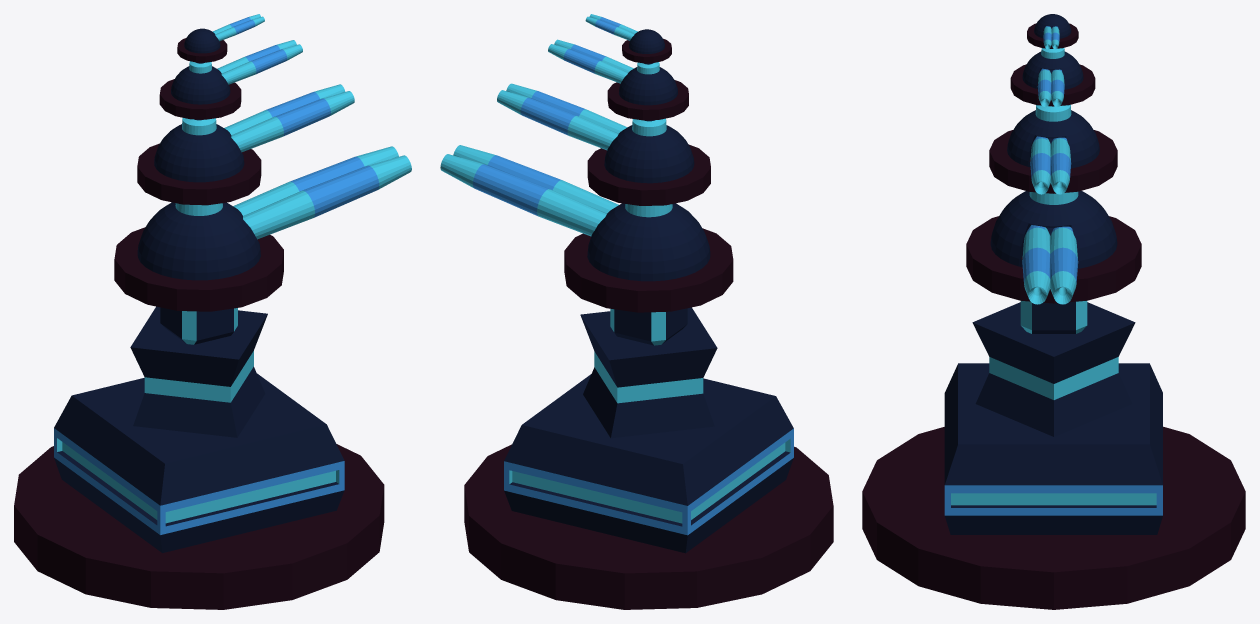
File: HydrogenTurret4.fbx
3 renders of one model, left to right at view 1: azimuth 30°, elevation 25°; view 2: azimuth 150°, elevation 25°; view 3: azimuth 270°, elevation 25°, orthographic. The views are drawn at different scales.
Visible parts, largest first — view 1: Cube, Cylinder, Cube.001, Sphere, Cylinder.001, Torus, Sphere.002, Cylinder.003, Torus.005, Torus.001, Cube.002, Sphere.003 (+6 smaller); view 2: Cube, Cylinder, Cube.001, Sphere, Cylinder.001, Torus.001, Sphere.002, Cylinder.003, Torus.004, Torus, Cube.002, Sphere.003 (+6 smaller); view 3: Cylinder, Cube, Cube.001, Sphere, Cylinder.001, Sphere.002, Cylinder.003, Cube.002, Torus, Torus.001, Sphere.003, Cylinder.004 (+4 smaller).
Part boxes in pixels (<box>): Cube: <box>54,373,344,552</box>; Cylinder: <box>14,444,384,609</box>; Cube.001: <box>130,306,267,437</box>; Sphere: <box>137,202,260,280</box>; Cylinder.001: <box>114,227,283,311</box>; Torus: <box>243,155,411,239</box>; Sphere.002: <box>154,118,244,182</box>; Cylinder.003: <box>137,143,261,205</box>; Torus.005: <box>231,91,354,152</box>; Torus.001: <box>233,146,398,215</box>; Cube.002: <box>160,307,237,344</box>; Sphere.003: <box>171,61,230,104</box>; Cube: <box>504,374,793,553</box>; Cylinder: <box>464,444,833,609</box>; Cube.001: <box>580,307,717,438</box>; Sphere: <box>587,203,710,281</box>; Cylinder.001: <box>564,228,733,312</box>; Torus.001: <box>440,154,606,236</box>; Sphere.002: <box>604,118,694,183</box>; Cylinder.003: <box>587,144,710,205</box>; Torus.004: <box>497,90,618,150</box>; Torus: <box>453,145,618,213</box>; Cube.002: <box>610,308,687,345</box>; Sphere.003: <box>619,62,677,105</box>; Cylinder: <box>862,426,1245,609</box>; Cube: <box>944,363,1162,534</box>; Cube.001: <box>972,302,1135,436</box>; Sphere: <box>990,191,1117,268</box>; Cylinder.001: <box>966,216,1141,303</box>; Sphere.002: <box>1007,105,1099,168</box>; Cylinder.003: <box>989,130,1117,193</box>; Cube.002: <box>1020,301,1087,333</box>; Torus: <box>1022,225,1050,304</box>; Torus.001: <box>1050,226,1078,304</box>; Sphere.003: <box>1022,48,1083,89</box>; Cylinder.004: <box>1010,64,1095,106</box>.
Bounding box in the file's own units: 673 × 890 × 600.
